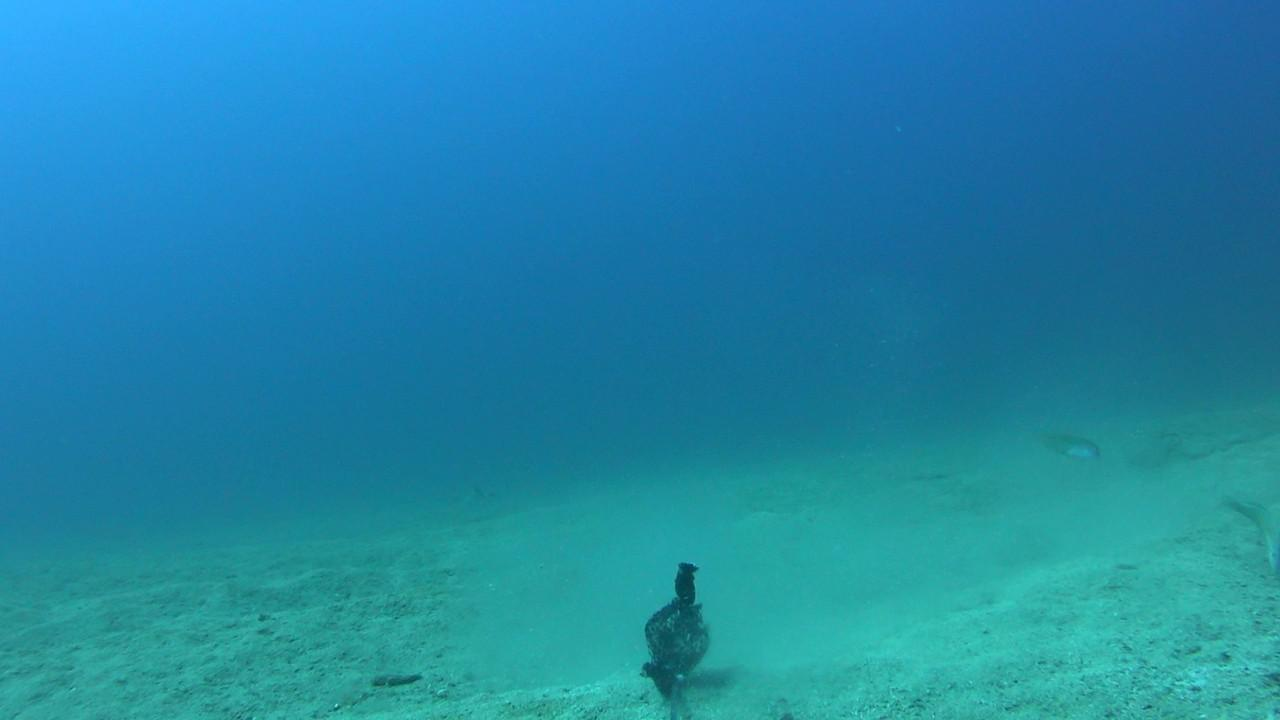myliobatis: (450, 474, 518, 516)
raor: (1032, 424, 1106, 464)
